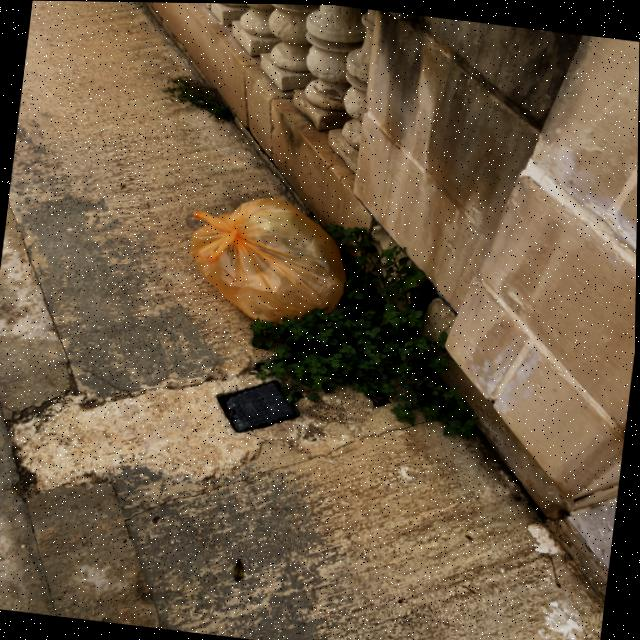Other: (184, 183, 357, 340)
